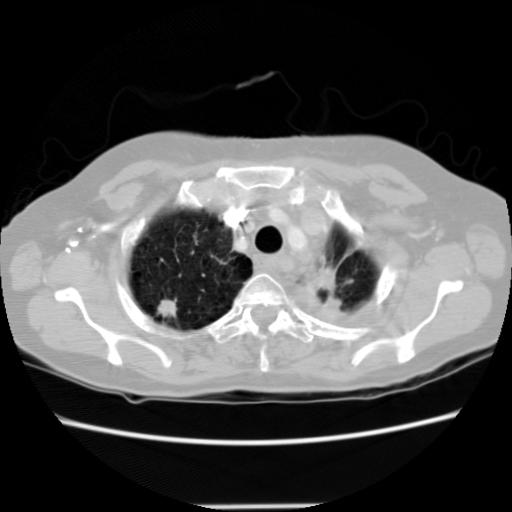nodule: (156, 297, 182, 323)
